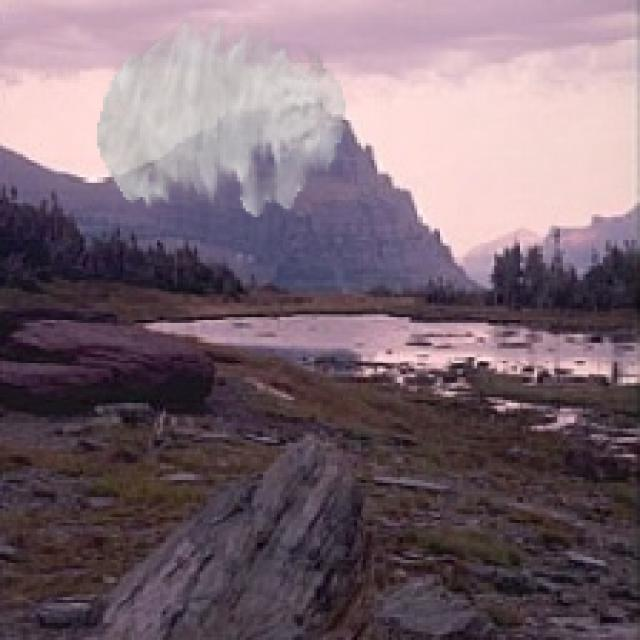Smoke: (97, 17, 346, 217)
